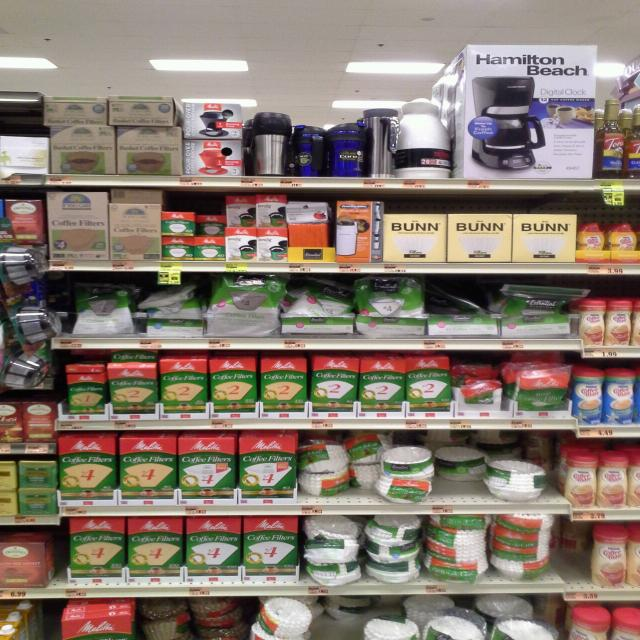unorganised: (41, 91, 182, 130), (298, 434, 378, 500), (364, 514, 426, 582), (306, 515, 361, 588), (503, 355, 574, 411), (494, 278, 584, 321), (141, 280, 204, 337), (379, 445, 437, 504), (285, 274, 356, 318), (105, 360, 159, 417), (483, 459, 551, 503), (454, 357, 505, 413), (438, 442, 487, 485), (427, 284, 488, 318), (293, 120, 328, 177), (225, 194, 255, 226), (195, 209, 225, 238)
